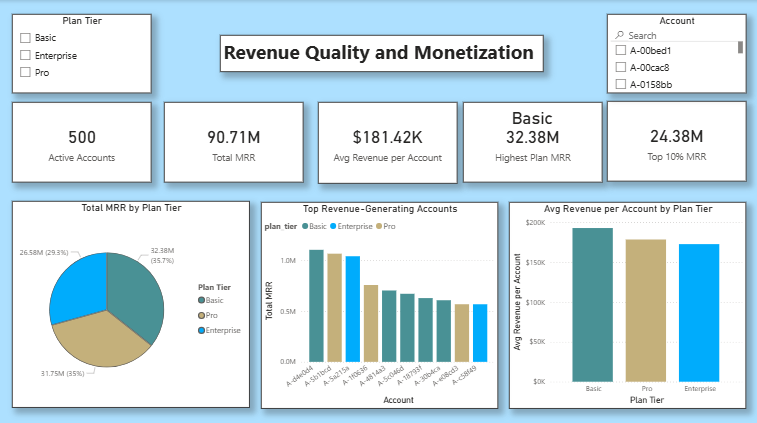

The dashboard page shown, as its layout file describes it:
{"tool":"powerbi","page":{"name":"Page 3","canvas":[1280,720],"ordinal":2},"visuals":[{"type":"card","fields":{"Values":["clean fact_accounts.Total MRR"]},"box":[250.9,106.2,224.4,113.4],"z":0},{"type":"card","fields":{"Values":["clean accounts.Avg Revenue per Account"]},"box":[475.3,106.2,260.6,113.4],"z":1000},{"type":"card","fields":{"Values":["clean fact_accounts.Active Accounts"]},"box":[15.7,106.2,235.3,113.4],"z":2000},{"type":"card","fields":{"Values":["clean fact_accounts.Highest Plan MRR"]},"box":[735.9,106.2,265.4,113.4],"z":3000},{"type":"card","fields":{"Values":["clean fact_accounts.Top MRR Plan"]},"box":[751.6,82,234,80.8],"z":4000},{"type":"pieChart","title":"Total MRR by Plan Tier","fields":{"Category":["clean fact_accounts.plan_tier"],"Y":["clean fact_accounts.Total MRR"]},"box":[15.7,248.5,368,427.1],"z":5000},{"type":"columnChart","title":"Avg Revenue per Account by Plan Tier","fields":{"Category":["clean fact_accounts.plan_tier"],"Y":["clean accounts.Avg Revenue per Account"]},"box":[396.9,248.5,369.2,427.1],"z":6000},{"type":"card","fields":{"Values":["clean fact_accounts.Top 10% MRR"]},"box":[1001.3,106.2,263,113.4],"z":7000},{"type":"columnChart","title":"Top Revenue-Generating Accounts","fields":{"Category":["clean fact_accounts.account_id"],"Y":["clean fact_accounts.Total MRR"],"Series":["clean fact_accounts.plan_tier"]},"box":[784.2,248.5,358.3,427.1],"z":8000},{"type":"slicer","title":"Plan Tier","fields":{"Values":["clean fact_accounts.plan_tier"]},"box":[1154.6,452.4,109.8,223.2],"z":9000},{"type":"textbox","box":[396.9,18.1,485,62.7],"z":10000},{"type":"slicer","title":"Account","fields":{"Values":["clean fact_accounts.account_id"]},"box":[1154.6,248.5,109.8,177.3],"z":11000}]}

Visuals, with their boxes in screenshot pixels (x1, y1, x2, y2), scaled from the page's 1280x720 canvas onto the 757x423 screenshot:
card - clean fact_accounts.Total MRR: x1=148, y1=62, x2=281, y2=129
card - clean accounts.Avg Revenue per Account: x1=281, y1=62, x2=435, y2=129
card - clean fact_accounts.Active Accounts: x1=9, y1=62, x2=148, y2=129
card - clean fact_accounts.Highest Plan MRR: x1=435, y1=62, x2=592, y2=129
card - clean fact_accounts.Top MRR Plan: x1=445, y1=48, x2=583, y2=96
"Total MRR by Plan Tier" pieChart: x1=9, y1=146, x2=227, y2=397
"Avg Revenue per Account by Plan Tier" columnChart: x1=235, y1=146, x2=453, y2=397
card - clean fact_accounts.Top 10% MRR: x1=592, y1=62, x2=748, y2=129
"Top Revenue-Generating Accounts" columnChart: x1=464, y1=146, x2=676, y2=397
"Plan Tier" slicer: x1=683, y1=266, x2=748, y2=397
textbox: x1=235, y1=11, x2=522, y2=47
"Account" slicer: x1=683, y1=146, x2=748, y2=250
